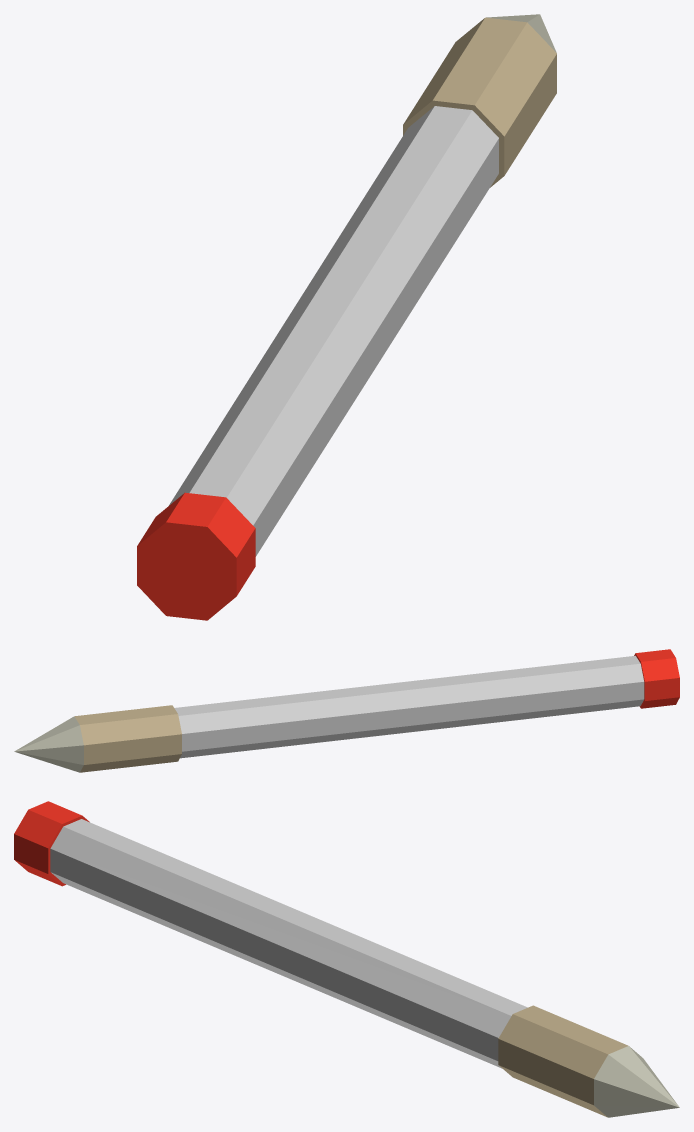
File: ce_ammo2_s5_heat_a.obj
3 renders of one model, top to bottom at view 1: azimuth 30°, elevation 25°; view 2: azimuth 150°, elevation 25°; view 3: azimuth 270°, elevation 25°, orthographic. The views are drawn at different scales.
Visible parts, largest first — view 1: ce_ammo2_s5_heat_a_1, ce_ammo2_s5_heat_a_2, ce_ammo2_s5_heat_a_0; view 2: ce_ammo2_s5_heat_a_1, ce_ammo2_s5_heat_a_2, ce_ammo2_s5_heat_a_3, ce_ammo2_s5_heat_a_0; view 3: ce_ammo2_s5_heat_a_1, ce_ammo2_s5_heat_a_2, ce_ammo2_s5_heat_a_3, ce_ammo2_s5_heat_a_0.
Boxes of the visible parts, x1,y1,x2,y2 form: ce_ammo2_s5_heat_a_1: [169, 106, 498, 556]; ce_ammo2_s5_heat_a_2: [403, 17, 556, 187]; ce_ammo2_s5_heat_a_0: [137, 492, 255, 620]; ce_ammo2_s5_heat_a_1: [174, 655, 644, 758]; ce_ammo2_s5_heat_a_2: [74, 705, 181, 772]; ce_ammo2_s5_heat_a_3: [14, 716, 83, 772]; ce_ammo2_s5_heat_a_0: [634, 649, 679, 708]; ce_ammo2_s5_heat_a_1: [50, 819, 527, 1068]; ce_ammo2_s5_heat_a_2: [498, 1005, 628, 1117]; ce_ammo2_s5_heat_a_3: [594, 1046, 679, 1117]; ce_ammo2_s5_heat_a_0: [14, 801, 89, 886].
Size of the model in its own units: 0.6898 by 0.0724 by 0.6898.
